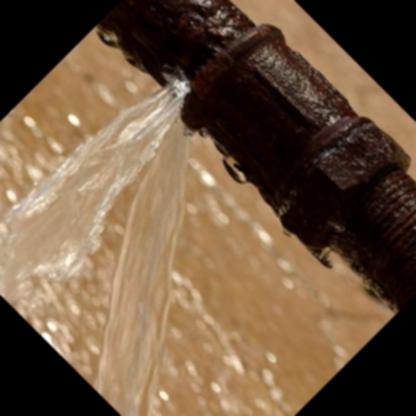burst: (152, 66, 246, 162)
